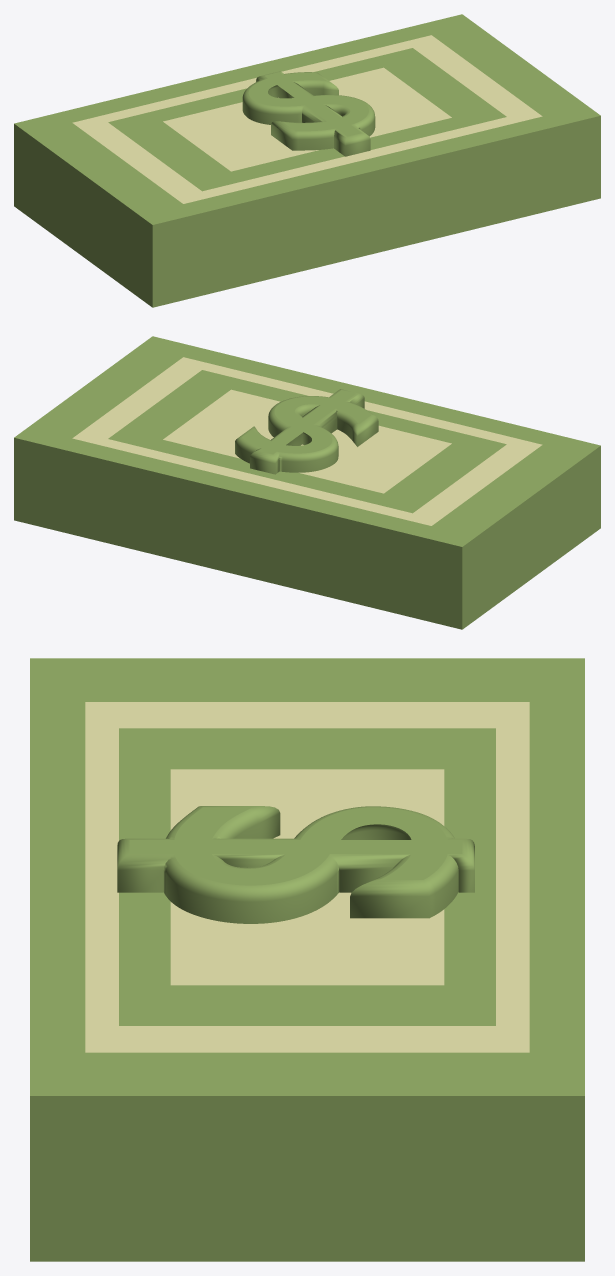
3 renders of one model, top to bottom at view 1: azimuth 30°, elevation 25°; view 2: azimuth 150°, elevation 25°; view 3: azimuth 270°, elevation 25°, orthographic. The views are drawn at different scales.
Parts seen in each view (by area): view 1: Plane, Text; view 2: Plane, Text; view 3: Plane, Text.
Part boxes in pixels (bbox=[...]): Plane: bbox=[14, 14, 600, 307]; Text: bbox=[242, 71, 375, 156]; Plane: bbox=[14, 336, 600, 629]; Text: bbox=[235, 389, 378, 474]; Plane: bbox=[30, 658, 584, 1261]; Text: bbox=[117, 806, 474, 923].
Size of the model in its own units: 200 by 42.33 by 107.
